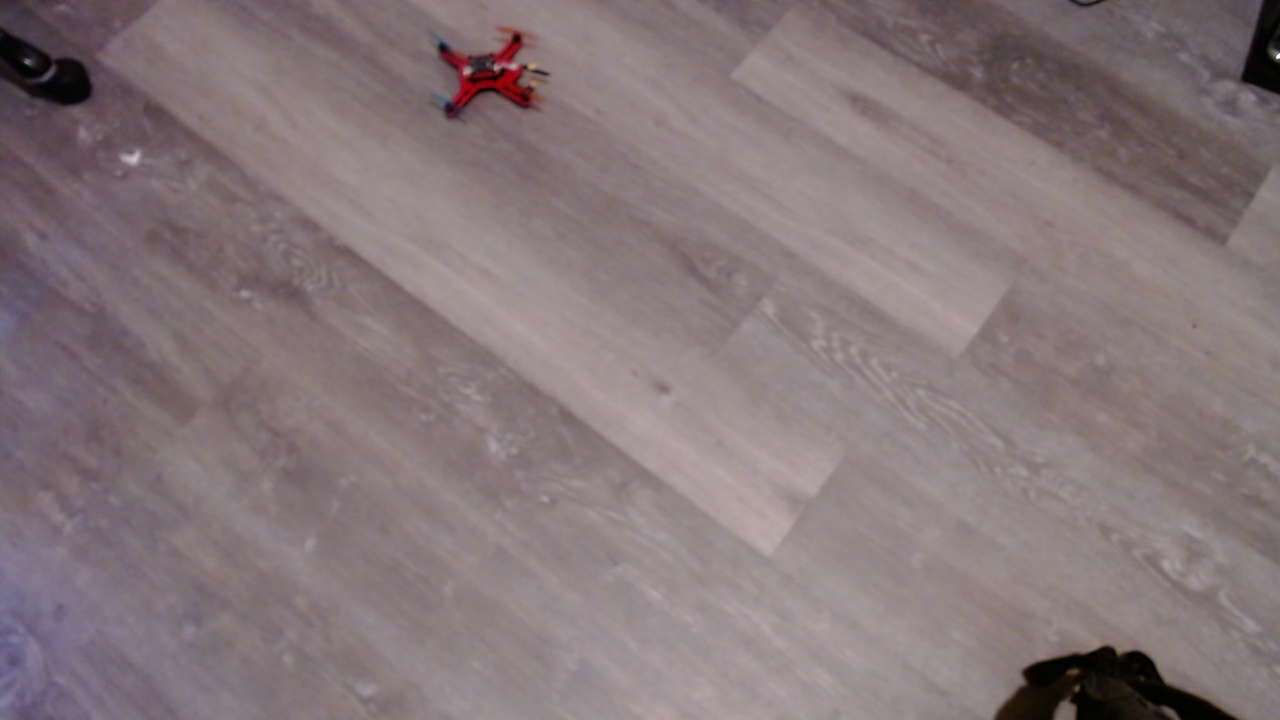crazyflie: (427, 24, 561, 135)
